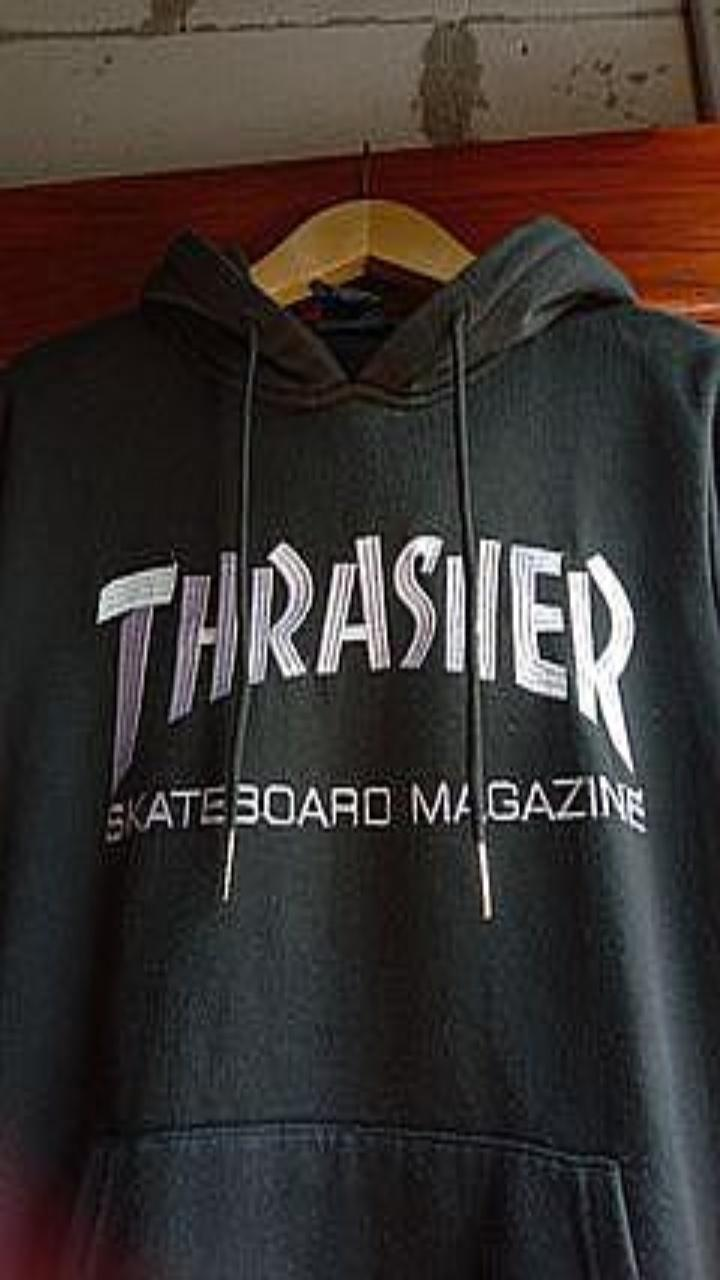Hoodie: (0, 217, 719, 1279)
